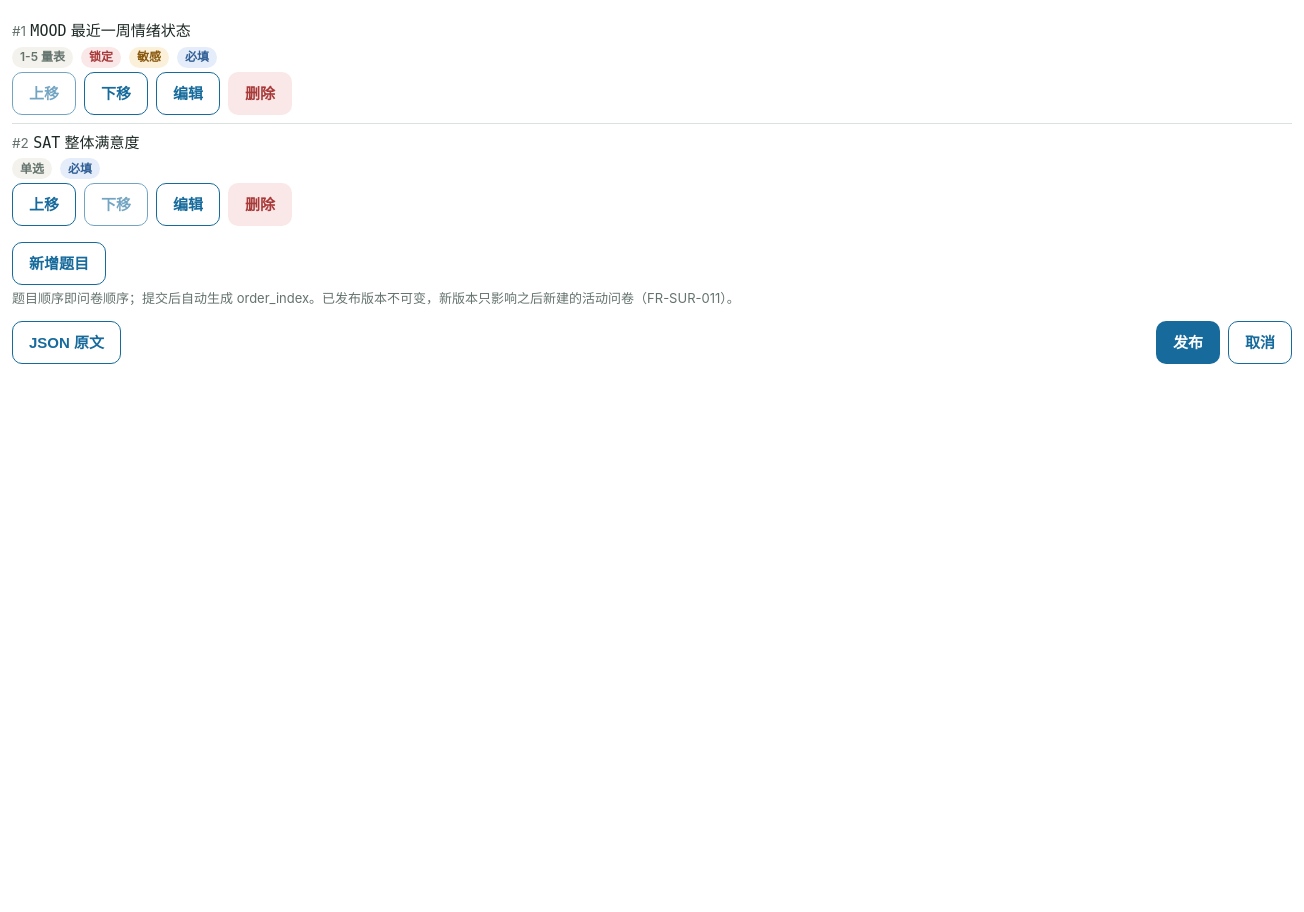
it: TemplateSchemaEditor（可视化模板题目编辑器，FR-SUR-001/011） › 新增题目：表单保存后出现在列表
Click the button "新增题目" at [59, 264], box top-left (12, 242), bottom-right (106, 285)
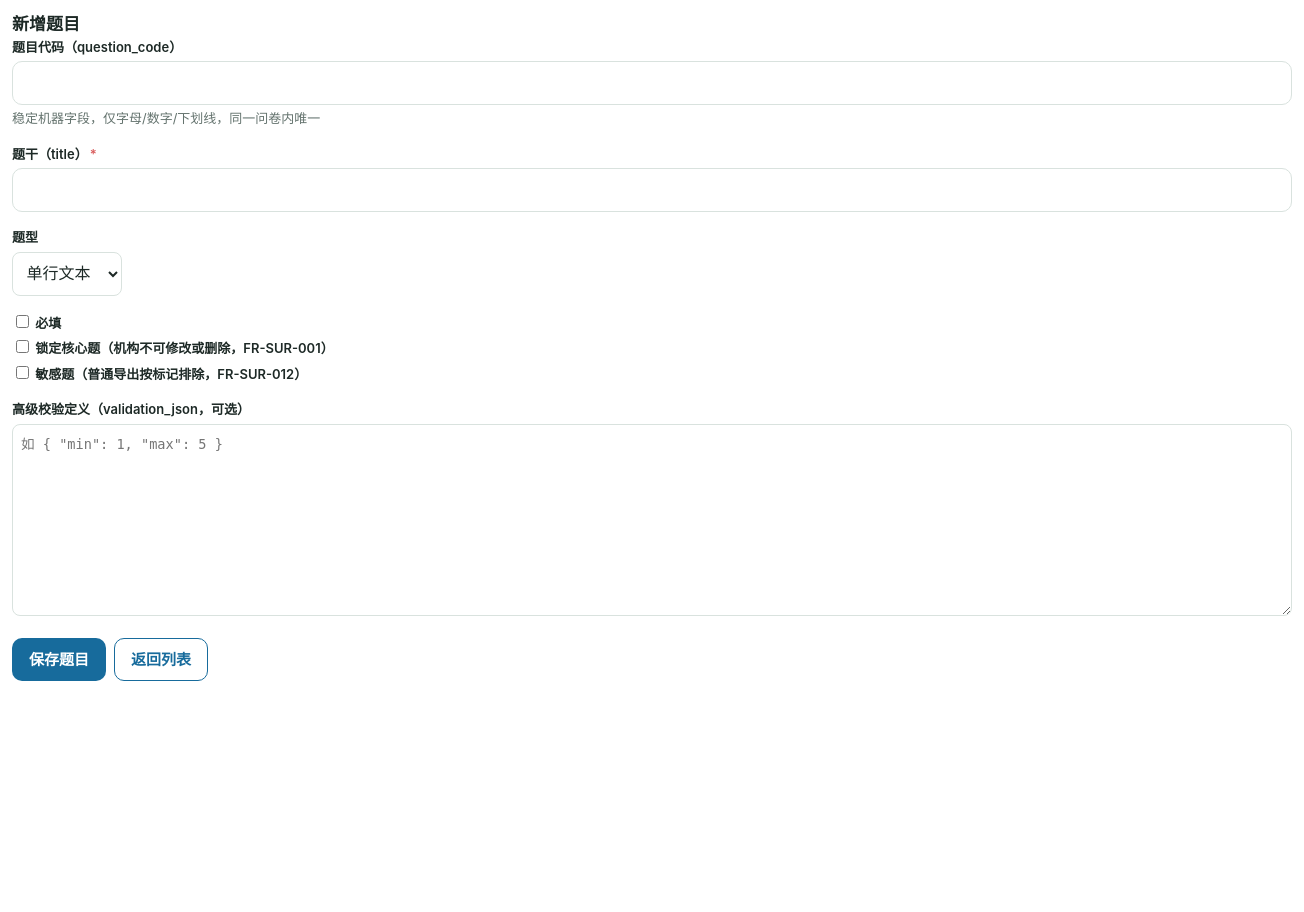
Type "NEW_Q" into the field labelled "题目代码（question_code）" at [652, 83], box top-left (12, 61), bottom-right (1292, 105)
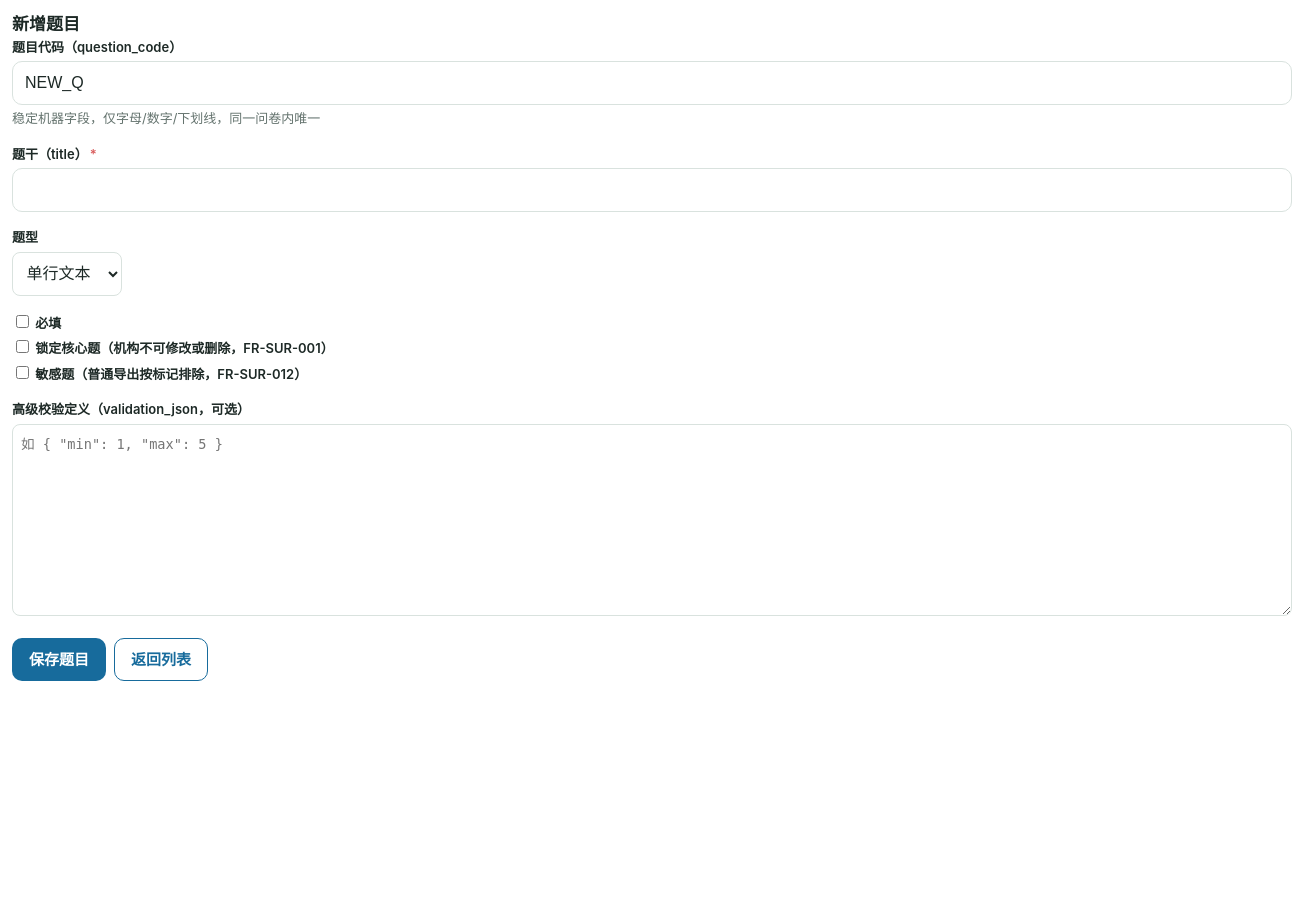
Type "新题目" into the field labelled "题干（title）*" at [652, 190], box top-left (12, 168), bottom-right (1292, 212)
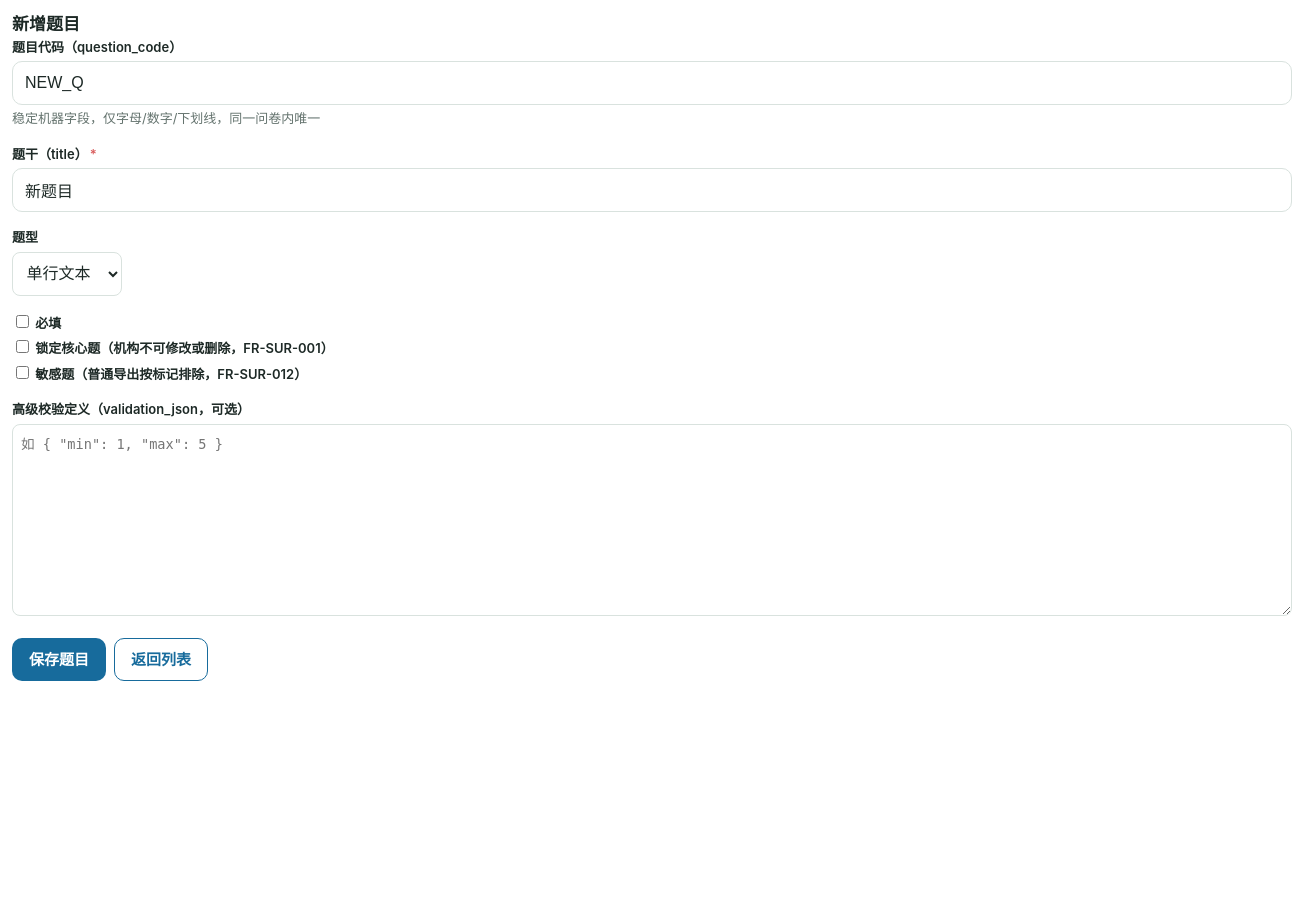
Click the button "保存题目" at [59, 660], box top-left (12, 638), bottom-right (106, 681)
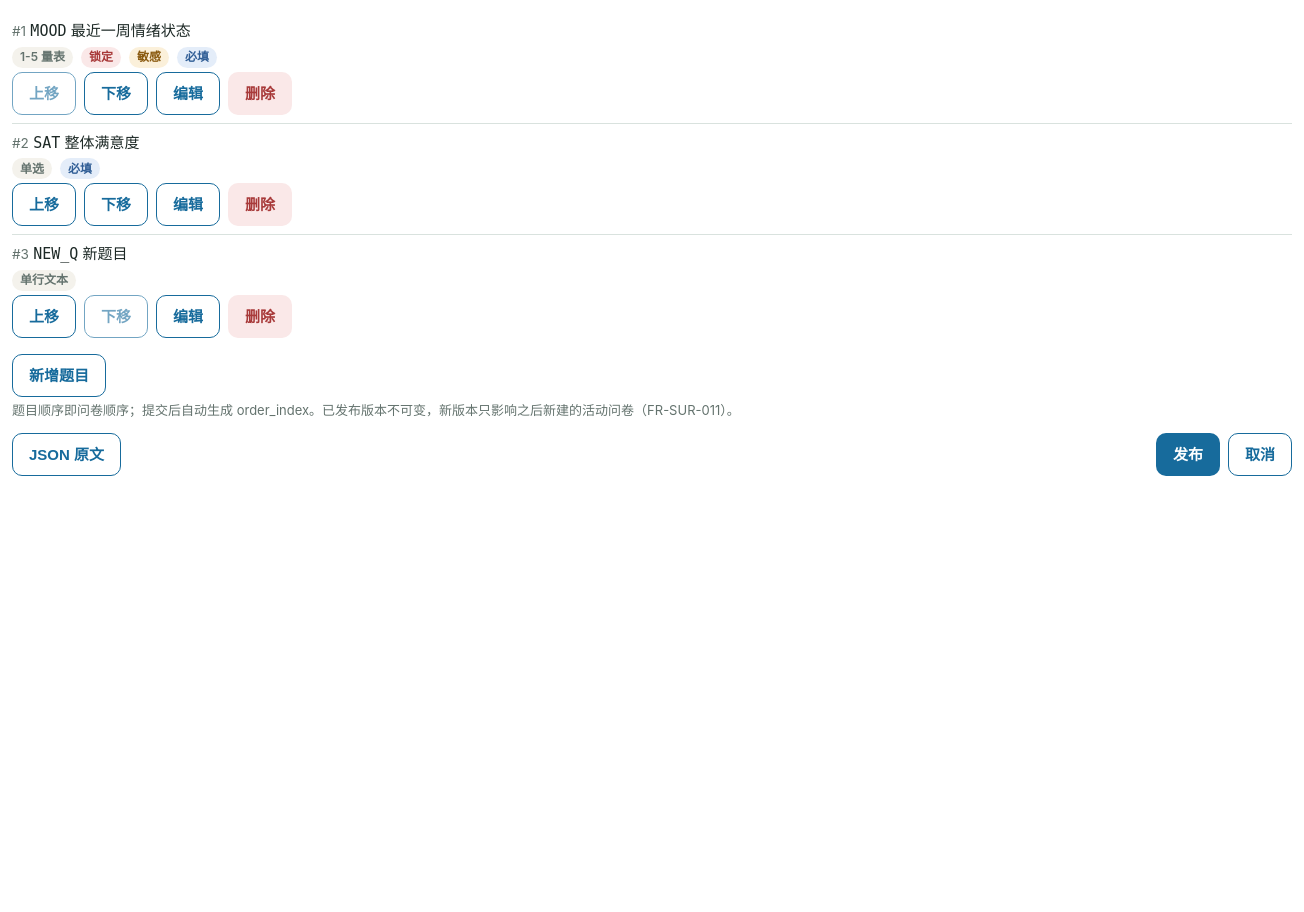
Result: the text "NEW_Q" is shown at top-left (33, 245), bottom-right (78, 263)
Result: the text "#3" is shown at top-left (12, 246), bottom-right (29, 262)
